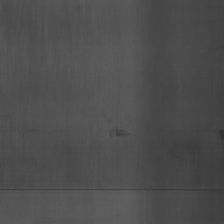welding_line: (0, 183, 224, 197), (107, 122, 133, 140), (218, 125, 224, 140)
